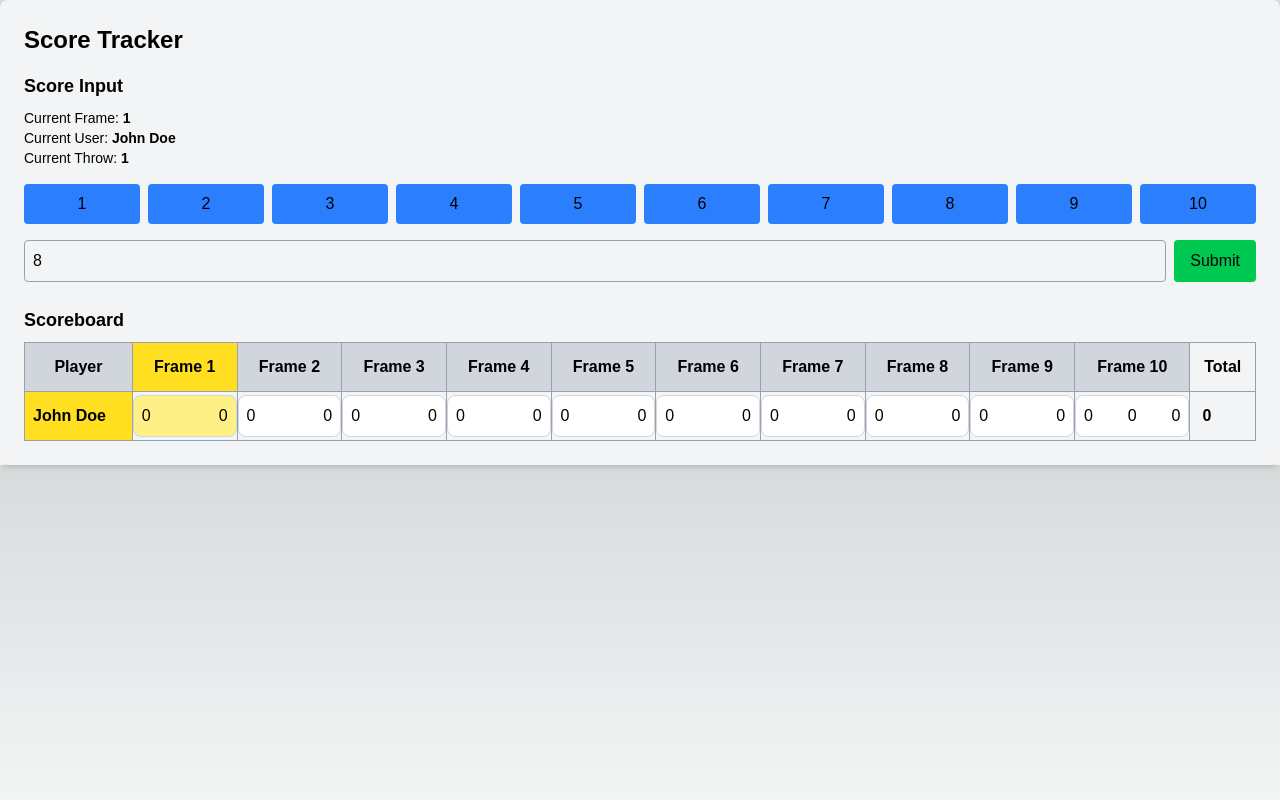
it: ScoreTracker Component › The total score should be updated in real-time as scores are entered
Enter first score (5)
Step 1. Replace the text in the number field with test id "input-score" with "5" → (595, 261), box 24,240 -> 1166,282
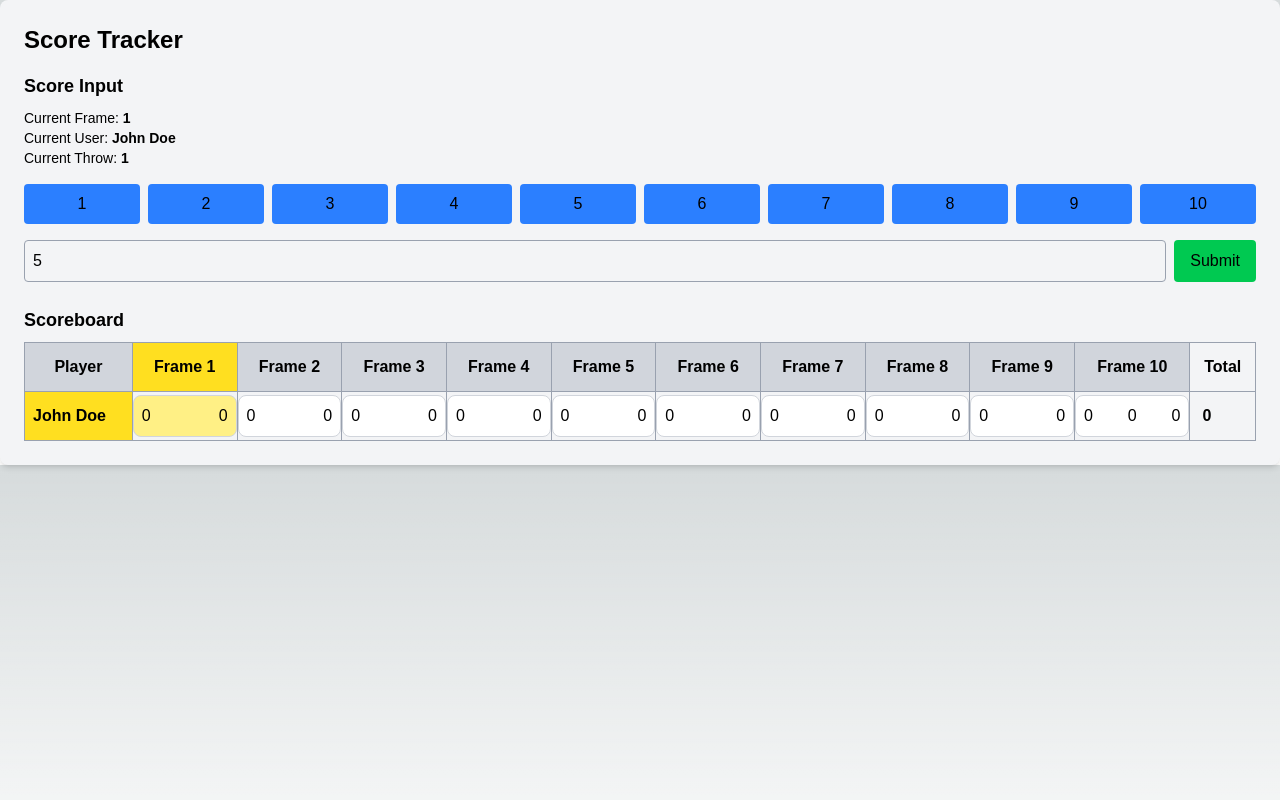
Step 2. Click the button "Submit" → (1215, 261), box 1174,240 -> 1256,282
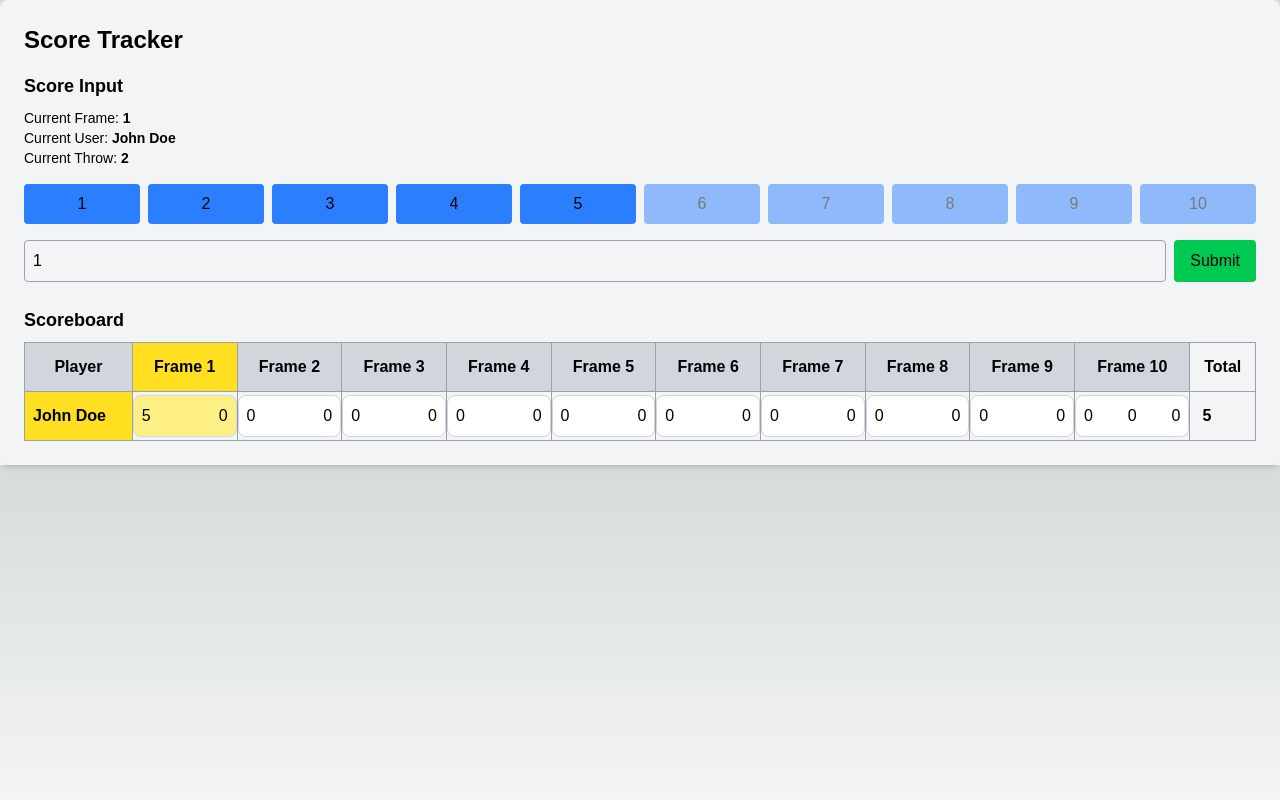
Result: the cell "5" is shown at 1190,392 -> 1256,440
Enter second score (3)
Step 3. Replace the text in the number field with test id "input-score" with "3" → (595, 261), box 24,240 -> 1166,282
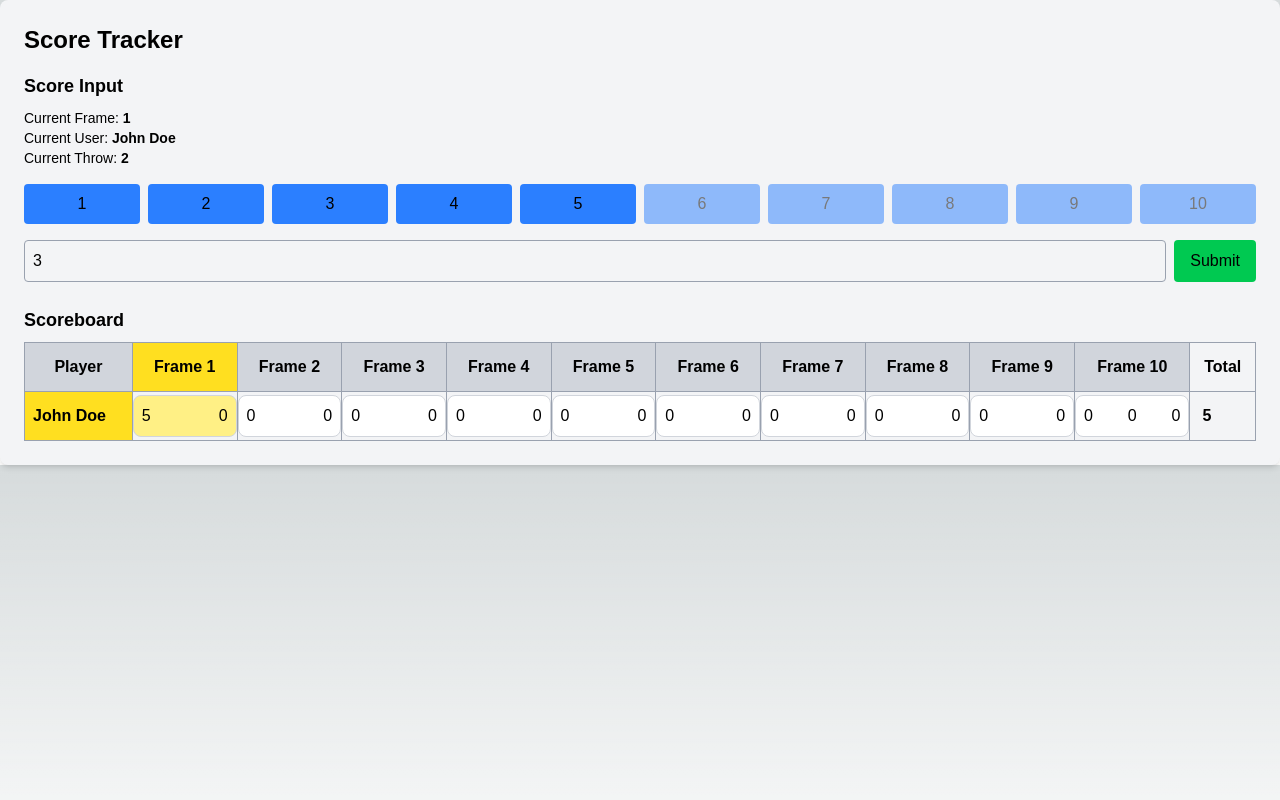
Step 4. Click the button "Submit" → (1215, 261), box 1174,240 -> 1256,282
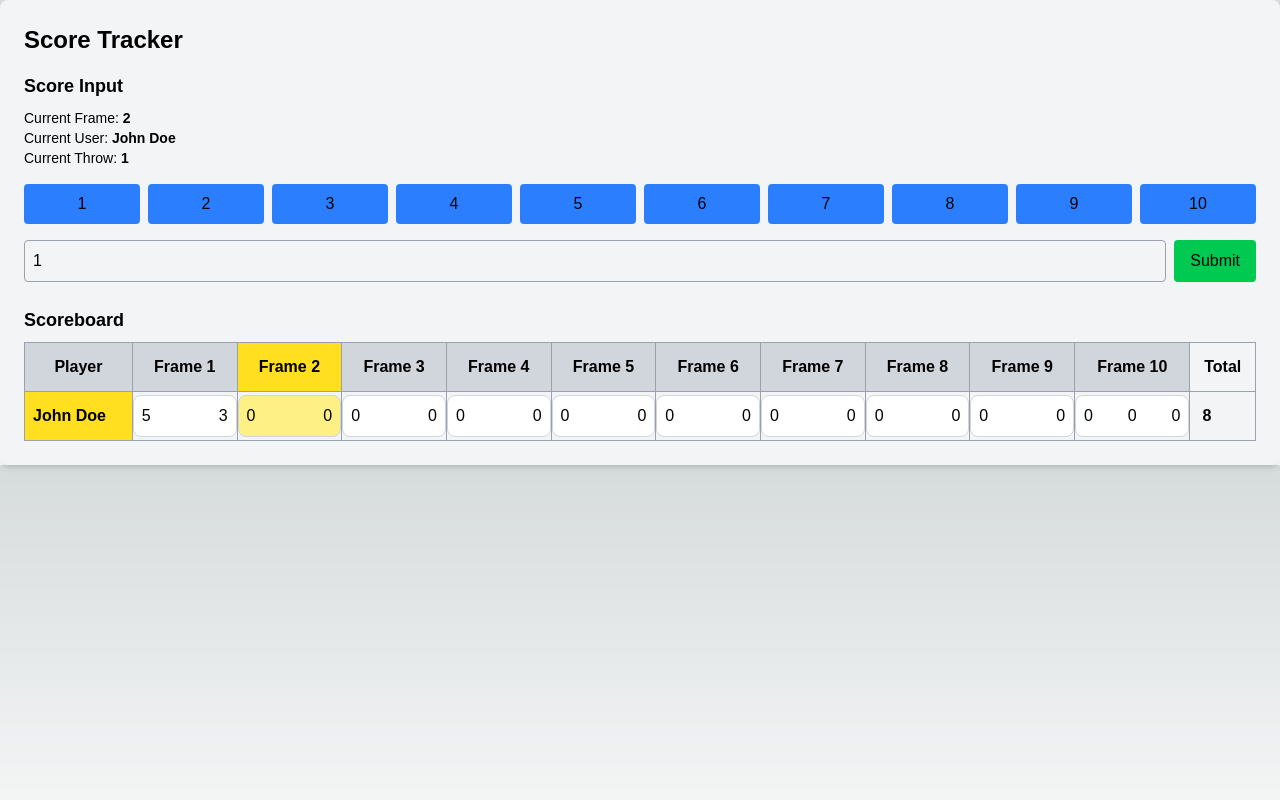
Result: the cell "8" is shown at 1190,392 -> 1256,440
